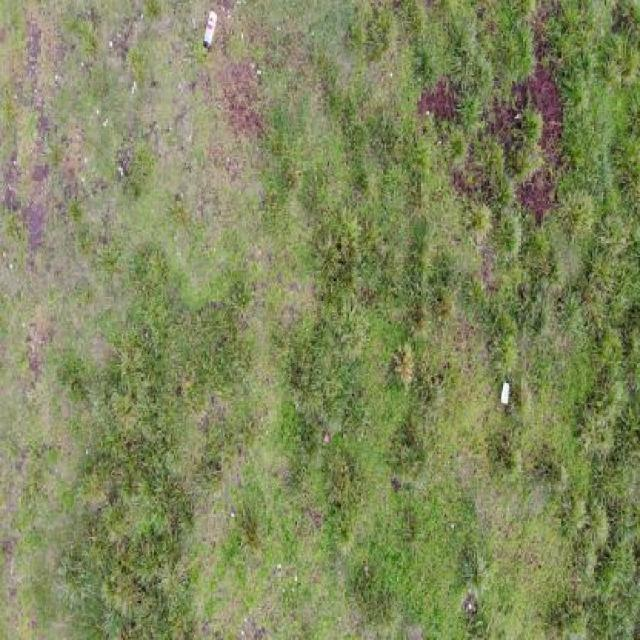Garbage: (202, 9, 219, 51), (498, 381, 512, 407)
